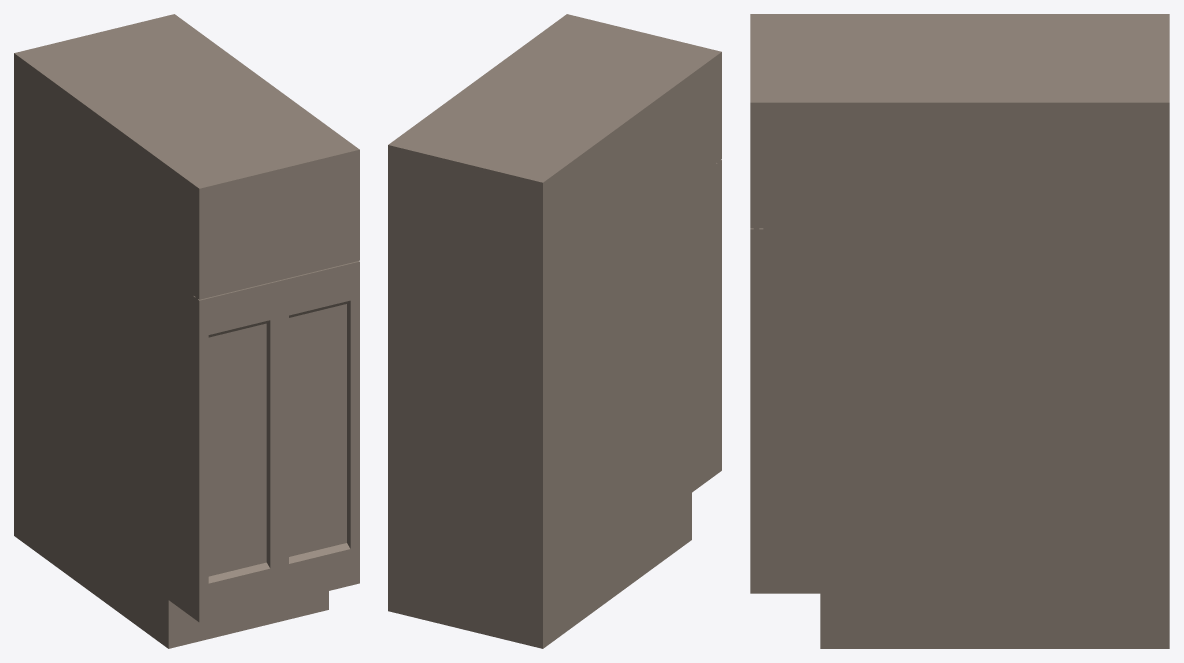
File: Base-Cabinet-Double-Door-One-Drawer-24-Deep_std_001_W12in.glb
The picture shows the model from 3 angles, left to right: view 1: azimuth 30°, elevation 25°; view 2: azimuth 150°, elevation 25°; view 3: azimuth 270°, elevation 25°; orthographic projection. The views are drawn at different scales.
Parts seen in each view (by area): view 1: Base-Cabinet-Double-Door-One-Drawer-24-Deep.std.001_W12in; view 2: Base-Cabinet-Double-Door-One-Drawer-24-Deep.std.001_W12in; view 3: Base-Cabinet-Double-Door-One-Drawer-24-Deep.std.001_W12in.
Part boxes in pixels (box(x1,y1,x2,y2)): Base-Cabinet-Double-Door-One-Drawer-24-Deep.std.001_W12in: box(14, 14, 359, 648); Base-Cabinet-Double-Door-One-Drawer-24-Deep.std.001_W12in: box(388, 14, 721, 648); Base-Cabinet-Double-Door-One-Drawer-24-Deep.std.001_W12in: box(750, 14, 1169, 648).
Bounding box in the file's own units: 0.3048 × 0.8763 × 0.6096.
